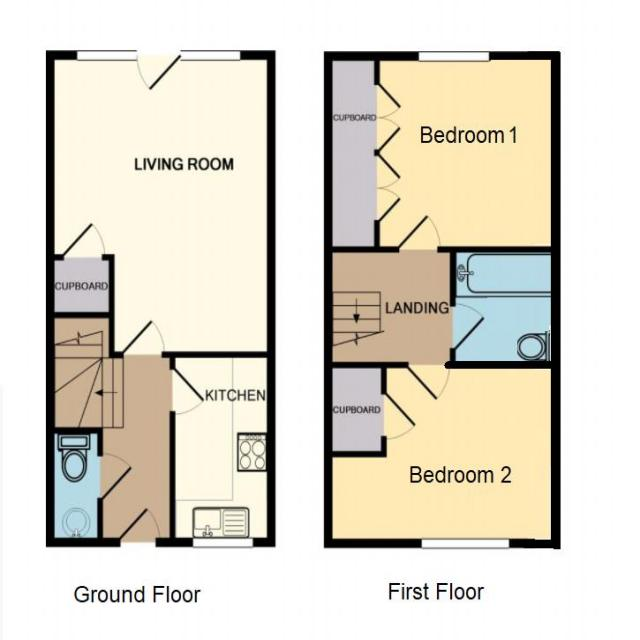DOOR: (134, 43, 182, 91), (169, 367, 208, 416), (396, 213, 443, 253), (97, 451, 134, 501), (118, 505, 162, 547), (406, 361, 451, 402), (450, 302, 487, 351), (121, 318, 166, 358)
ROOM: (45, 50, 276, 358), (323, 51, 561, 253), (323, 360, 561, 549), (169, 351, 276, 548)
WINDOW: (420, 537, 510, 550), (417, 50, 490, 63), (191, 537, 254, 549)
